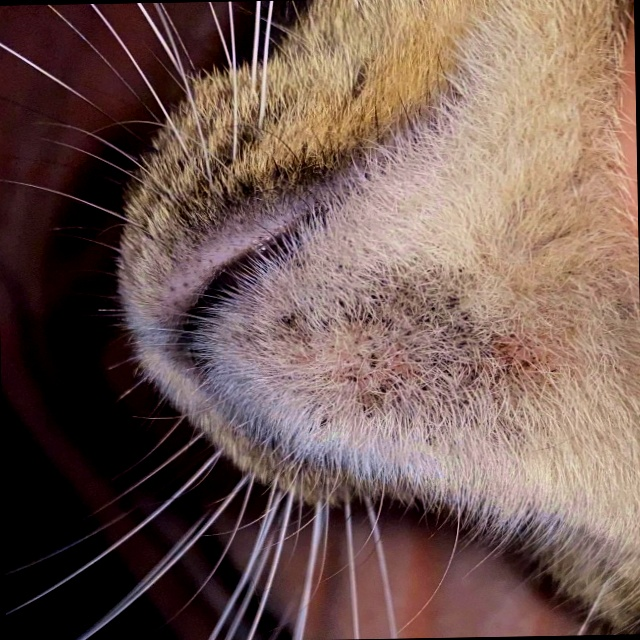acne: (223, 256, 552, 435)
